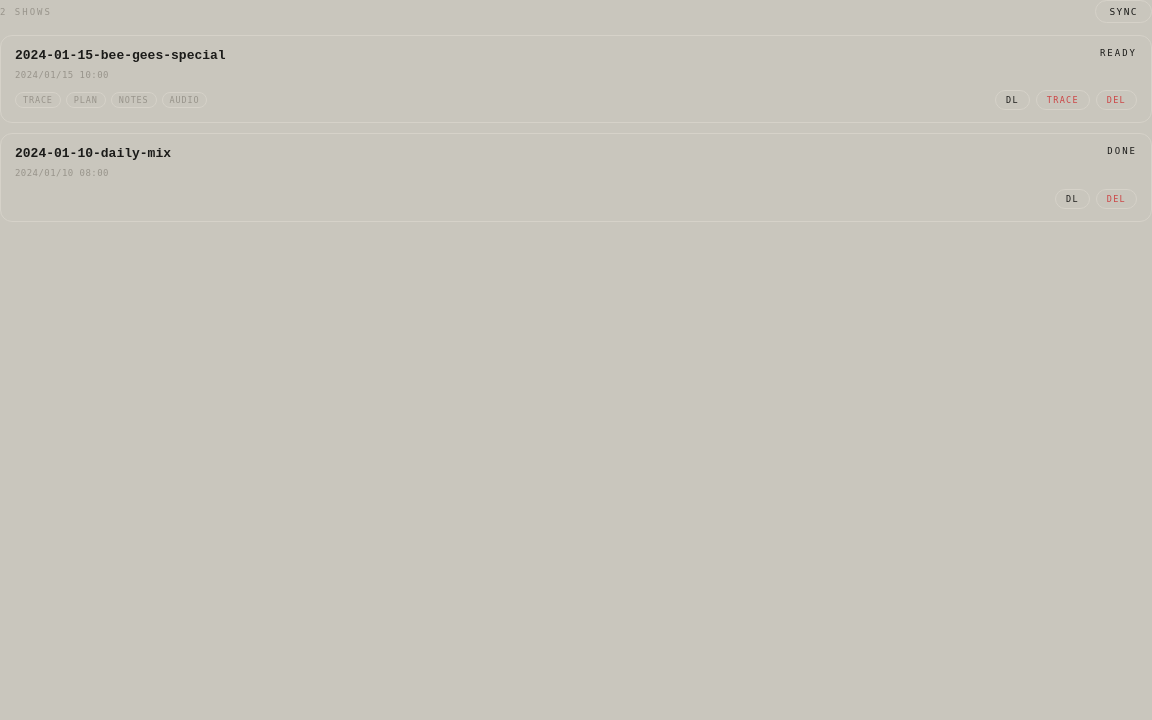
Test: ShowLibrary 历史节目库 › 点击删除项目时显示确认对话框
The image size is (1152, 720).
Check: the text "2024-01-15-bee-gees-special" is shown, box [15,48,226,63]
Click the button "DEL" in the row of "AUDIO".
click(1116, 100)  # box [1096,90,1137,110]
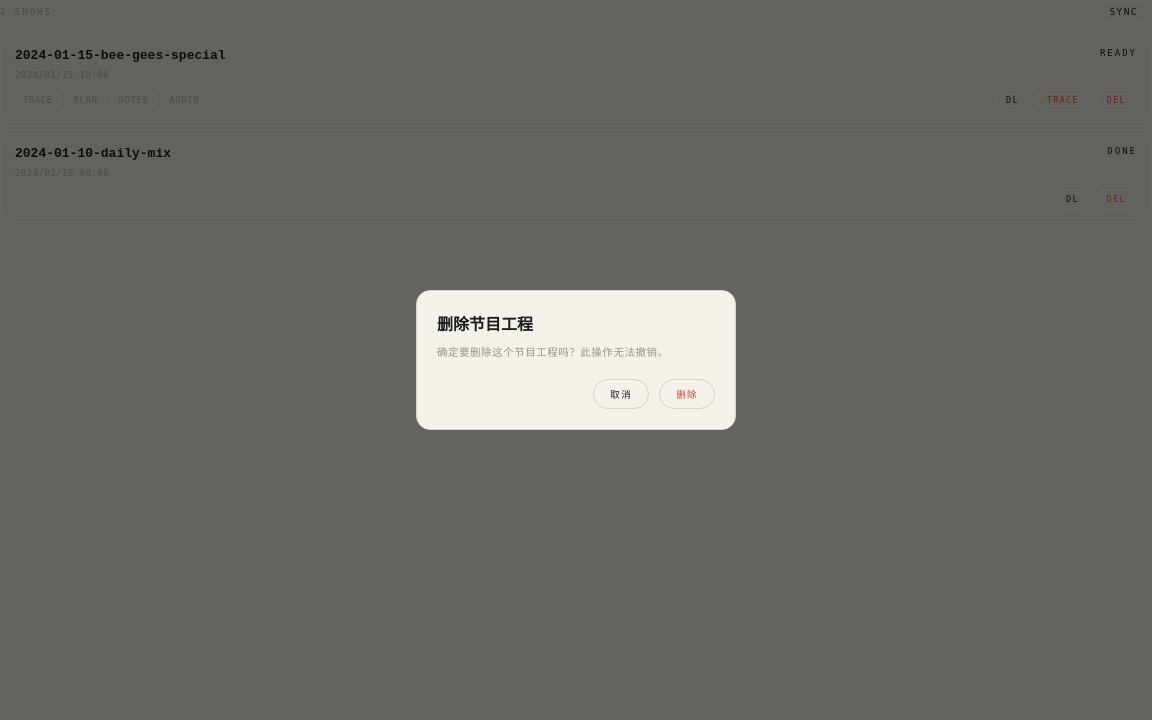
Check: the heading "删除节目工程" is shown, box [437,317,533,335]
